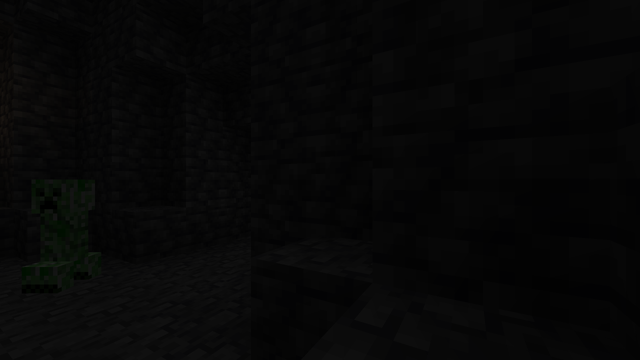creepers: (31, 174, 96, 294)
